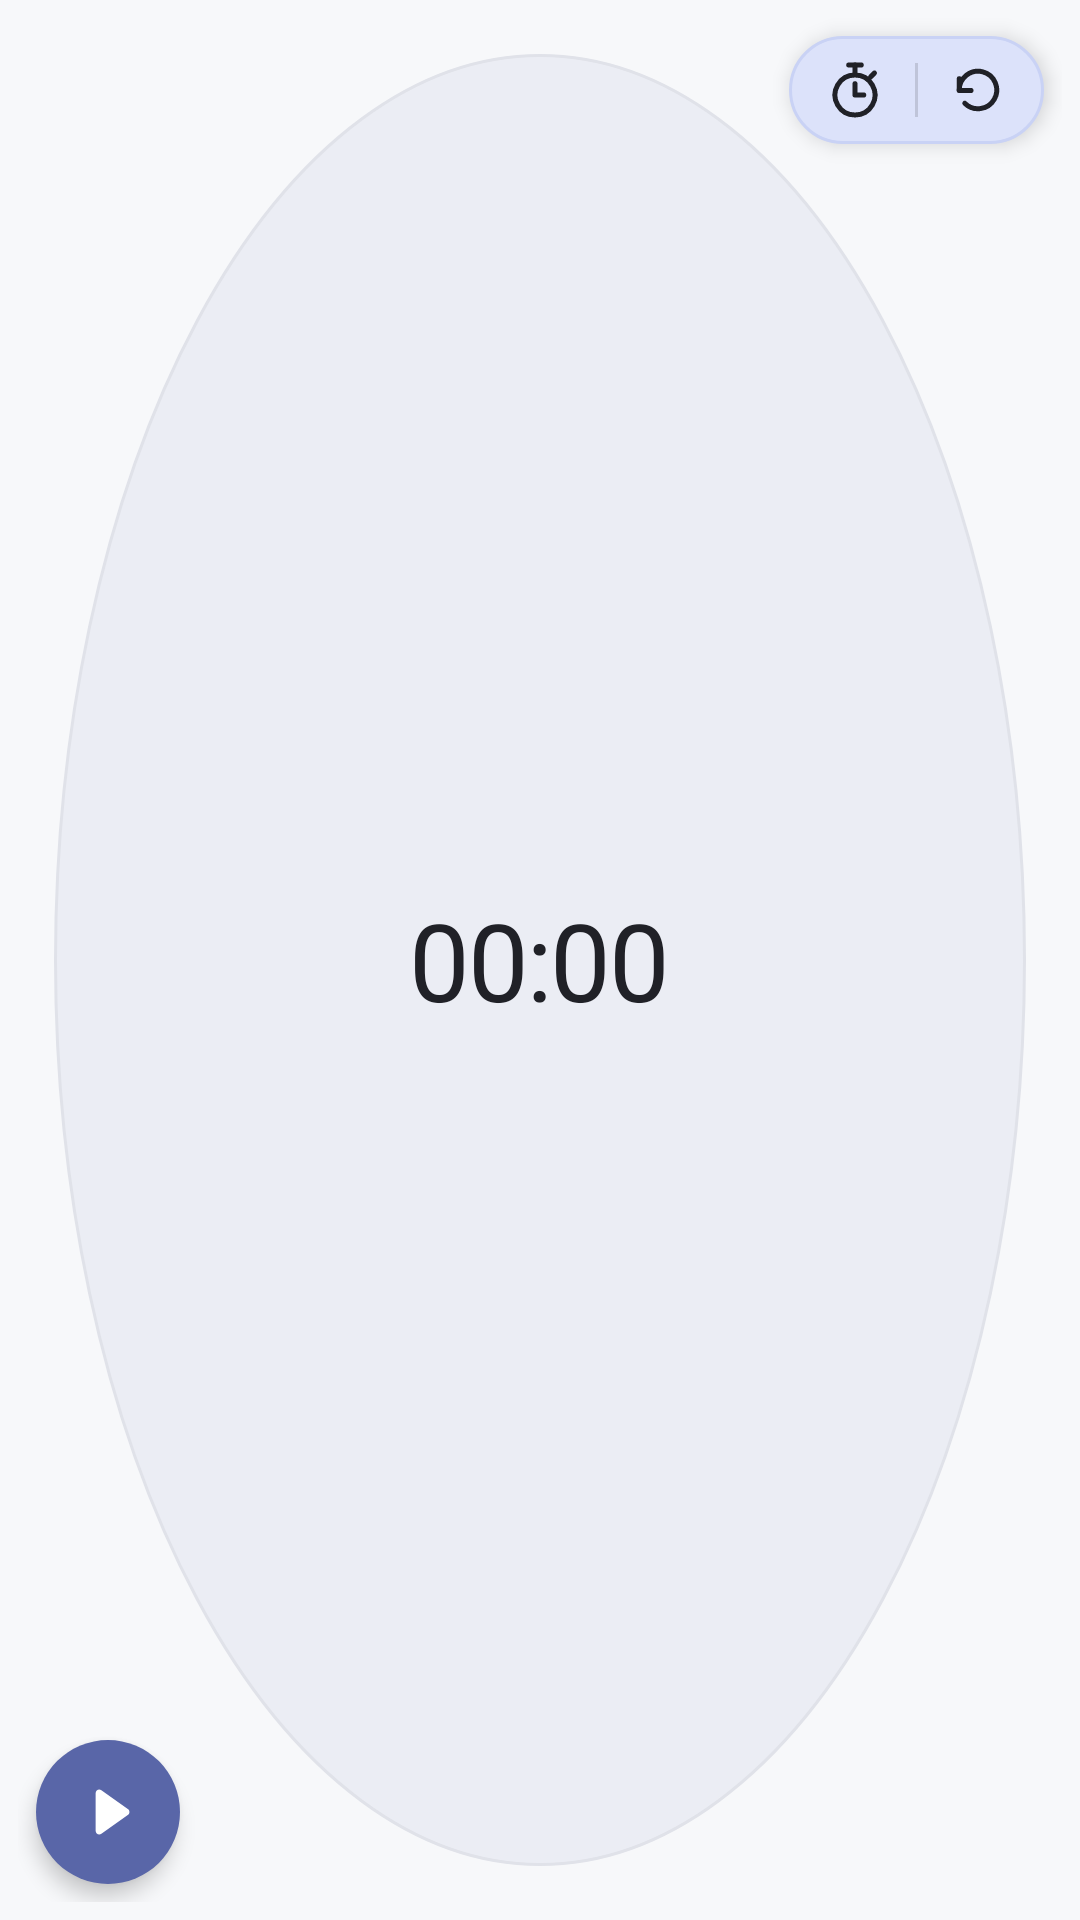

Point at icon controls on the screen. Image size 1080x1920, points as point (x, y).
widget lap: point (855, 90)
widget play: point (112, 1812)
widget reset: point (978, 90)
